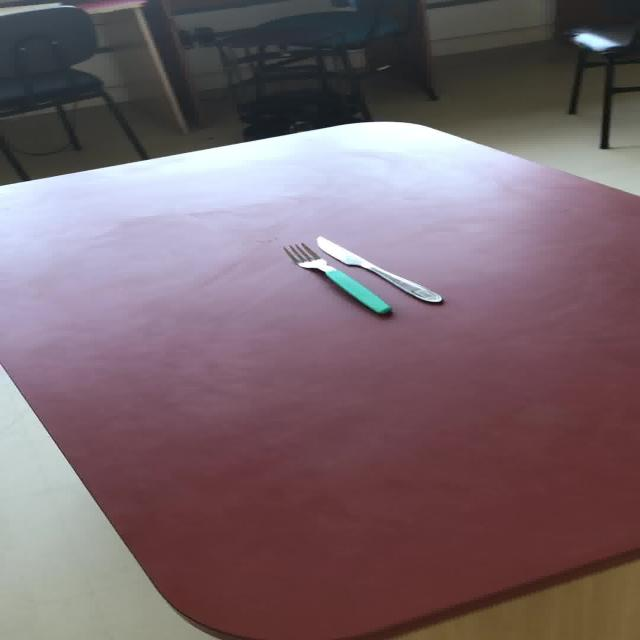fork: (280, 241, 391, 315)
knife fork: (280, 234, 443, 315), (314, 234, 442, 303)
